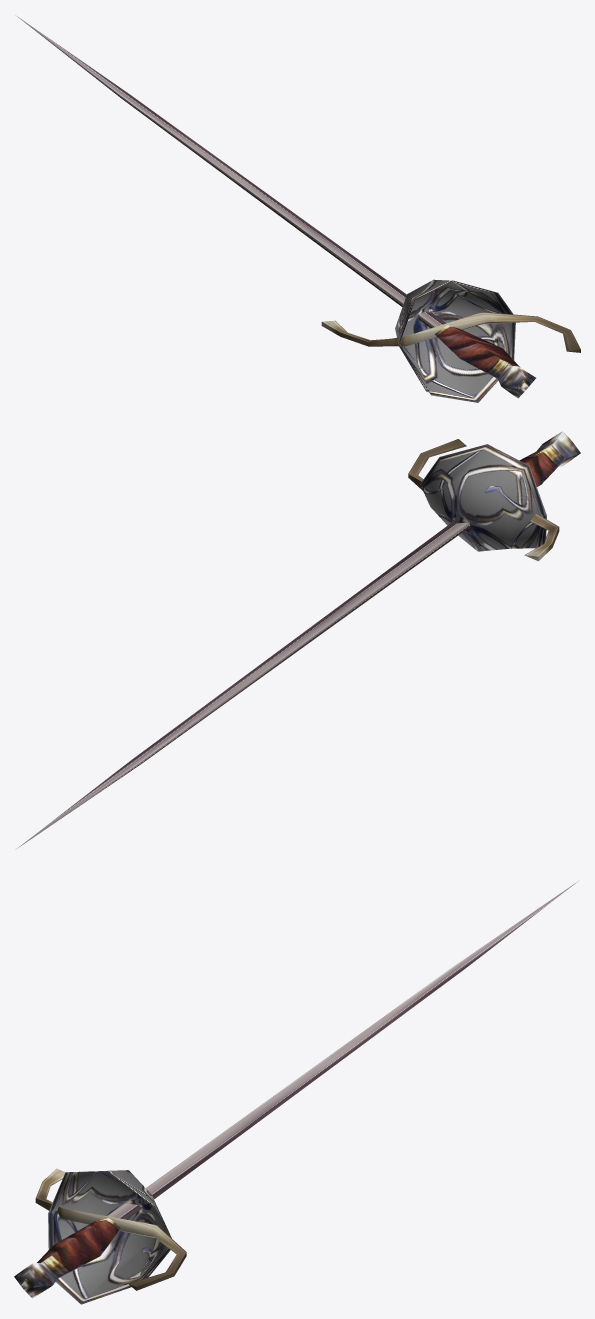
The model's file is pir_m_hnd_swd_rapier_a.fbx.
3 views of the same model, one above another, from view 1: azimuth 30°, elevation 25°; view 2: azimuth 150°, elevation 25°; view 3: azimuth 330°, elevation 25° (orthographic). The views are drawn at different scales.
Visible parts, largest first — view 1: blade, hilt_top, hilt_bottom, grip, guard; view 2: hilt_top, blade, hilt_bottom, grip, guard; view 3: blade, hilt_bottom, hilt_top, grip, guard.
Boxes of the visible parts, left/top/right/bottom form: blade: left=17, top=16, right=446, bottom=328; hilt_top: left=395, top=279, right=513, bottom=392; hilt_bottom: left=395, top=282, right=515, bottom=402; grip: left=434, top=325, right=535, bottom=398; guard: left=321, top=312, right=580, bottom=352; hilt_top: left=420, top=444, right=546, bottom=551; blade: left=15, top=521, right=470, bottom=849; hilt_bottom: left=420, top=444, right=546, bottom=547; grip: left=519, top=431, right=580, bottom=486; guard: left=408, top=439, right=559, bottom=561; blade: left=107, top=881, right=578, bottom=1219; hilt_bottom: left=48, top=1170, right=171, bottom=1304; hilt_top: left=48, top=1170, right=170, bottom=1278; grip: left=14, top=1218, right=120, bottom=1298; guard: left=35, top=1168, right=186, bottom=1290.
Bounding box in the file's own units: 67.6 × 37.76 × 336.
2 materials, 2 textured.
